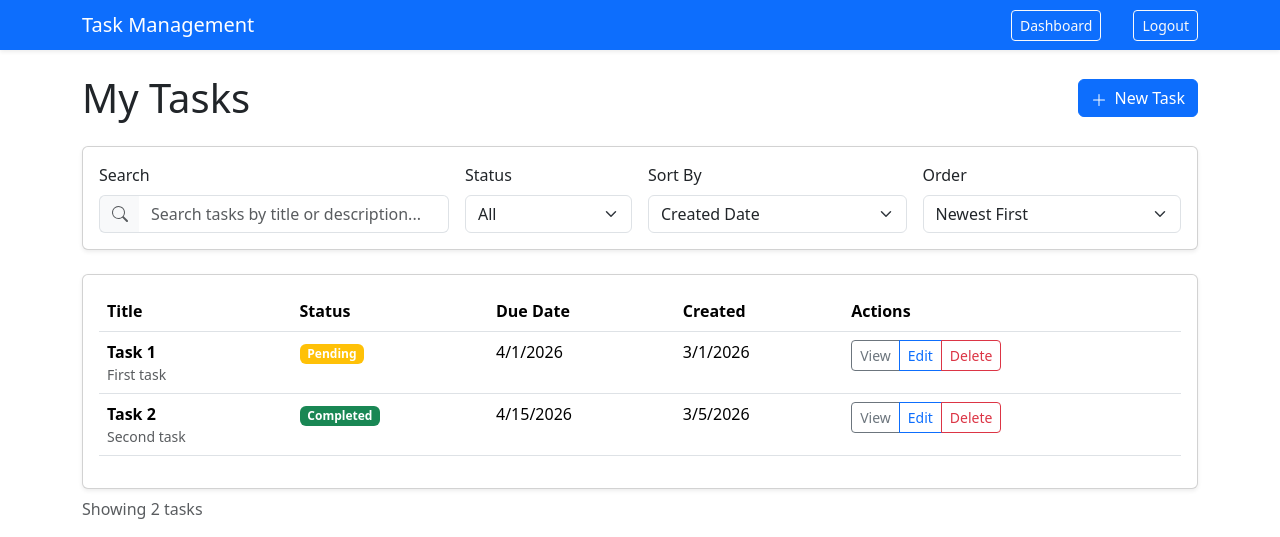
Scenario: TasksPage › should show search query in results count
# Search for something
Type "my search" into the search field with placeholder "Search tasks by title or description..." at (294, 214), box [139,195,449,233]
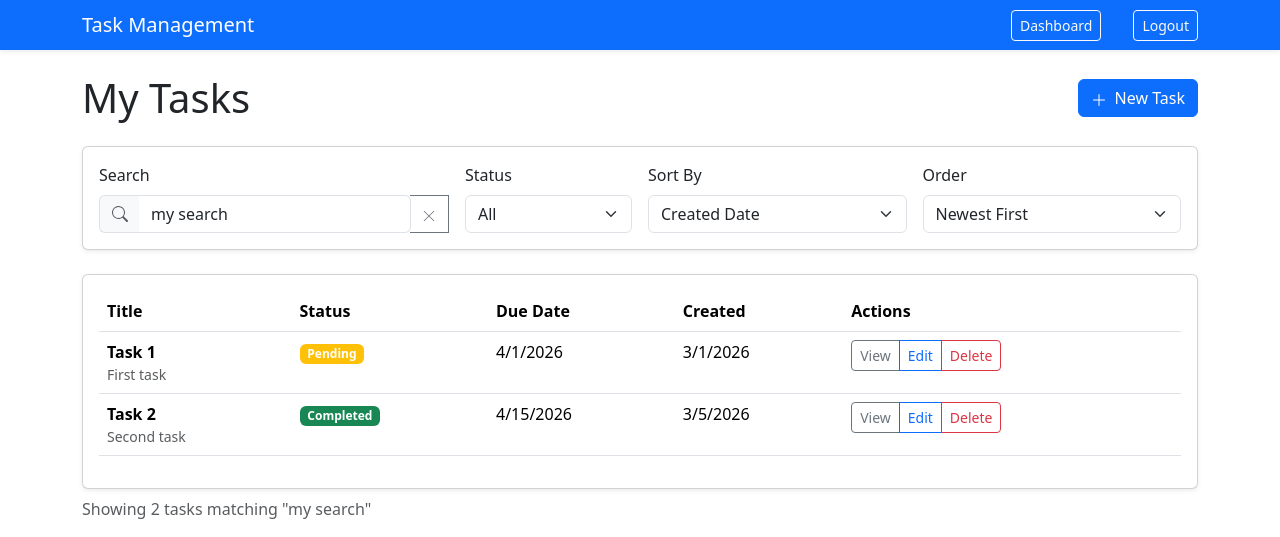
Check: the text "Showing 2 tasks matching \"my search\"" is shown, box [82,498,371,520]
